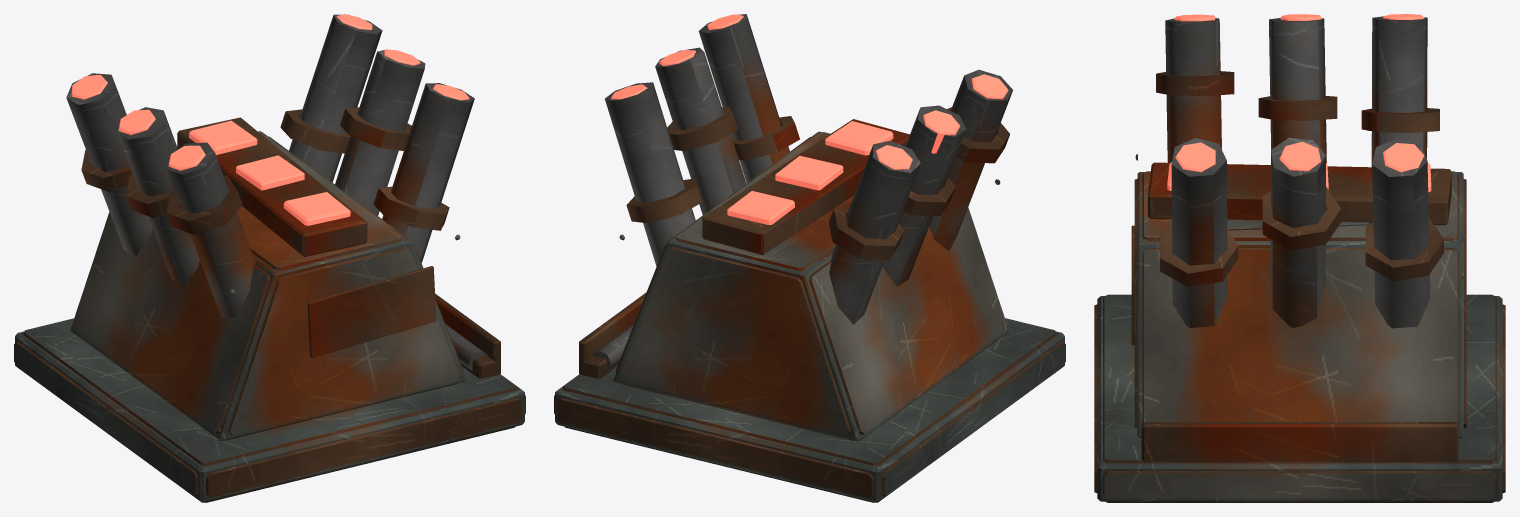
Rendered from R4X_Overdrive.glb.
3 renders of one model, left to right at view 1: azimuth 30°, elevation 25°; view 2: azimuth 150°, elevation 25°; view 3: azimuth 270°, elevation 25°, orthographic. The views are drawn at different scales.
Visible parts, largest first — view 1: R4X_Overdrive_Body; view 2: R4X_Overdrive_Body; view 3: R4X_Overdrive_Body.
Part boxes in pixels (bbox=[...]): R4X_Overdrive_Body: bbox=[14, 14, 525, 502]; R4X_Overdrive_Body: bbox=[554, 14, 1065, 502]; R4X_Overdrive_Body: bbox=[1094, 14, 1505, 502].
Size of the model in its own units: 0.52 by 0.476 by 0.52.
Materials: 5 (4 with a texture image).
